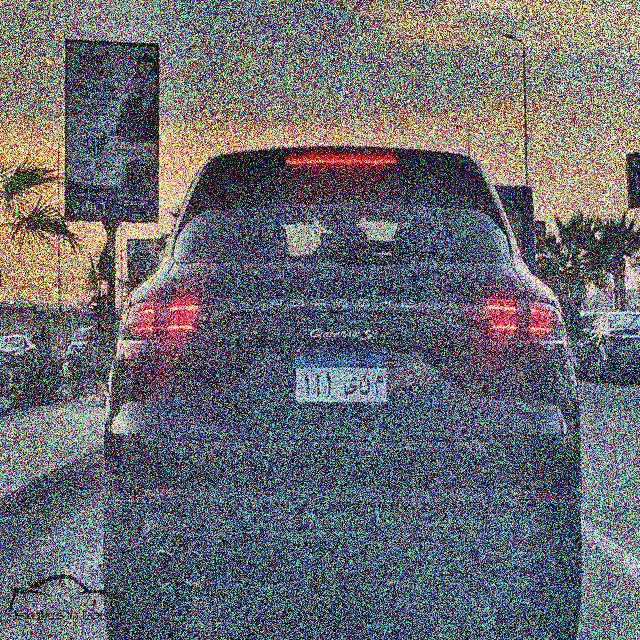License Plate: (292, 340, 390, 404)
